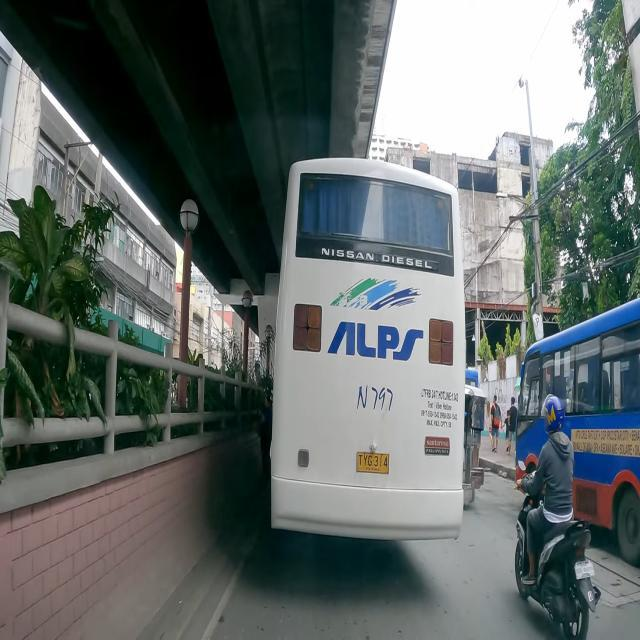bus: (270, 155, 466, 538)
jeepney: (514, 296, 640, 570)
motorcycle: (514, 394, 603, 640)
